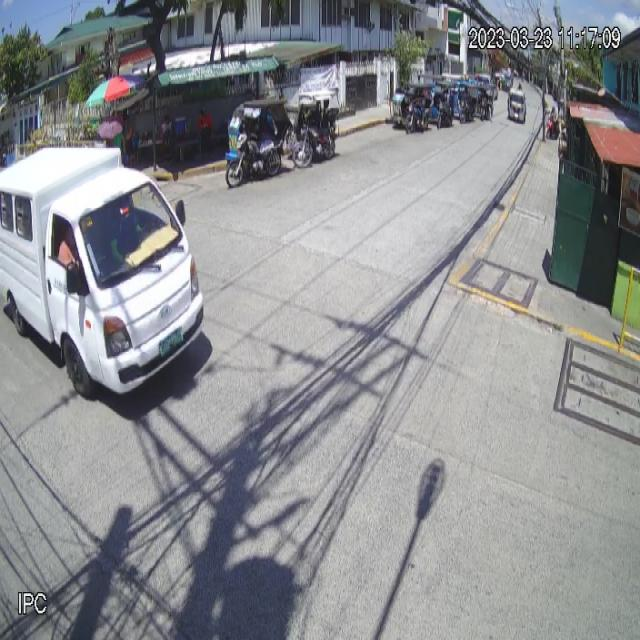Van: (1, 143, 205, 405)
